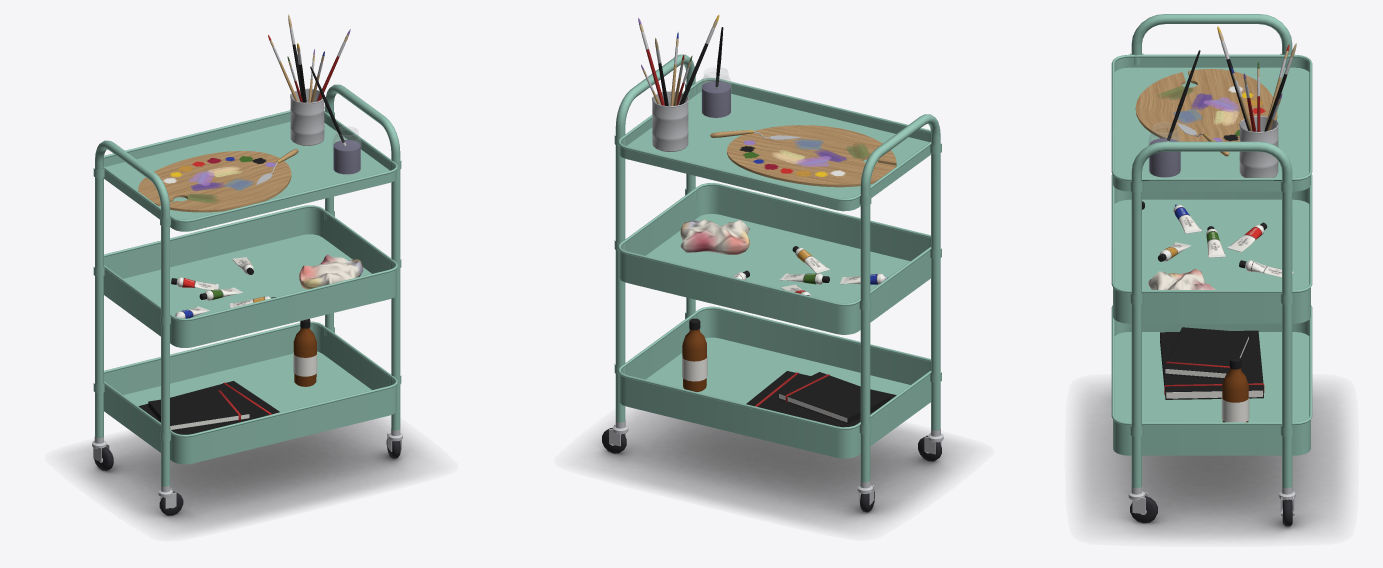
File: art_cart.glb
3 renders of one model, left to right at view 1: azimuth 30°, elevation 25°; view 2: azimuth 150°, elevation 25°; view 3: azimuth 270°, elevation 25°, orthographic. The views are drawn at different scales.
Visible parts, largest first — view 1: art_cart_LOD0, art_cart_Shadow; view 2: art_cart_LOD0, art_cart_Shadow; view 3: art_cart_LOD0, art_cart_Shadow.
Part boxes in pixels (left/top/right/bottom): art_cart_LOD0: left=92, top=14, right=402, bottom=515; art_cart_Shadow: left=73, top=418, right=427, bottom=531; art_cart_LOD0: left=602, top=14, right=943, bottom=512; art_cart_Shadow: left=584, top=410, right=965, bottom=529; art_cart_LOD0: left=1111, top=14, right=1312, bottom=526; art_cart_Shadow: left=1078, top=385, right=1345, bottom=538.
Size of what is drawn, in the model's own units: 0.9454 by 1.08 by 0.6664.
3 materials, 2 textured.
